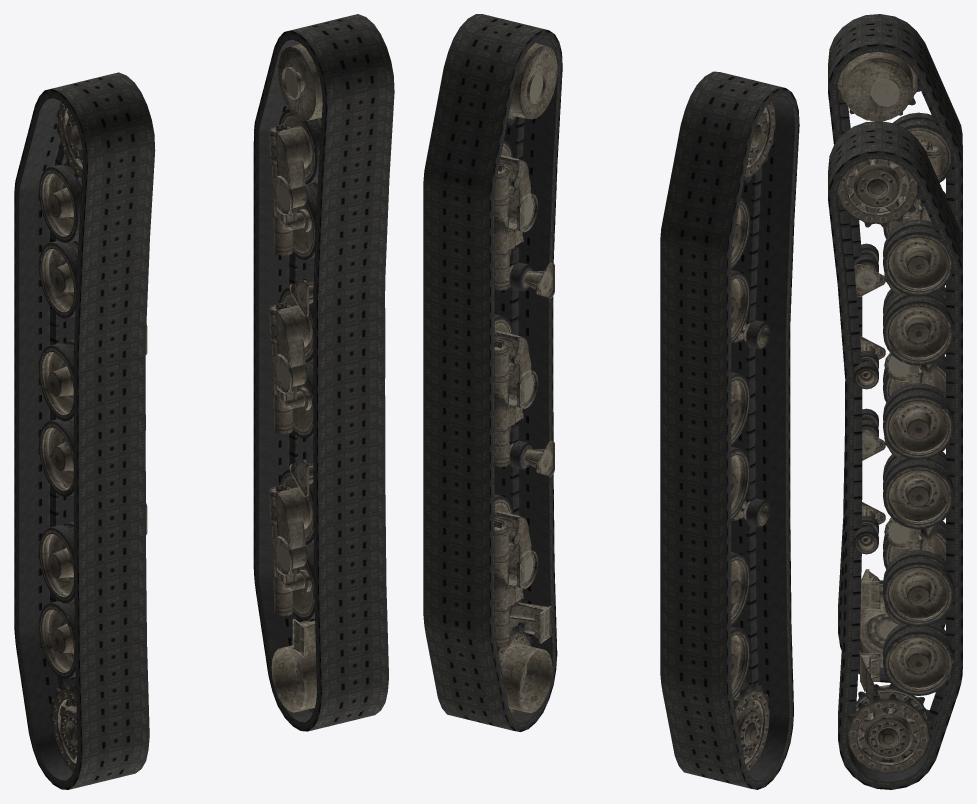
The model's file is Chassis.glb.
3 renders of one model, left to right at view 1: azimuth 30°, elevation 25°; view 2: azimuth 150°, elevation 25°; view 3: azimuth 270°, elevation 25°, orthographic. The views are drawn at different scales.
Visible parts, largest first — view 1: set_1_group_0, set_0_group_0, set_3_group_0, set_2_group_0; view 2: set_1_group_0, set_0_group_0, set_3_group_0, set_2_group_0; view 3: set_3_group_0, set_0_group_0, set_2_group_0, set_1_group_0.
Part boxes in pixels (x1,y1,x2,y2): set_1_group_0: [14, 72, 155, 789]; set_0_group_0: [253, 14, 394, 731]; set_3_group_0: [269, 44, 322, 713]; set_2_group_0: [39, 102, 147, 771]; set_1_group_0: [660, 71, 799, 789]; set_0_group_0: [423, 14, 562, 731]; set_3_group_0: [494, 43, 557, 713]; set_2_group_0: [731, 101, 775, 771]; set_3_group_0: [837, 159, 954, 773]; set_0_group_0: [828, 121, 962, 789]; set_2_group_0: [837, 52, 953, 667]; set_1_group_0: [828, 14, 962, 682].
Size of the model in its own units: 3.19 by 6.94 by 1.33.
4 materials, 4 textured.
